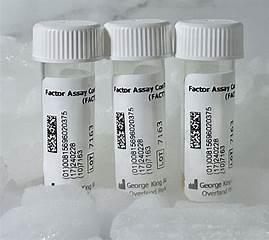Syringe: (170, 12, 252, 207), (29, 17, 107, 196), (98, 16, 174, 192)
